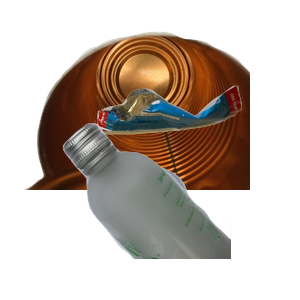glass: (60, 120, 300, 300)
metal: (21, 29, 261, 209)
plastic: (110, 164, 300, 300)
trash: (94, 83, 300, 210)
